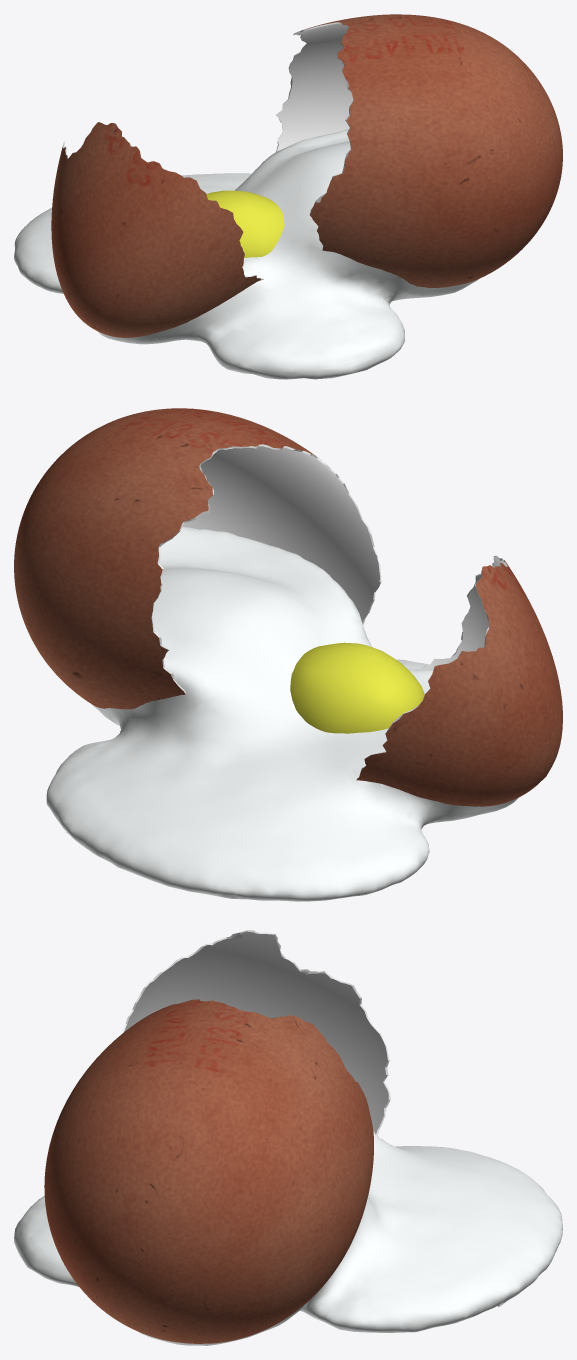
File: egg.glb
3 renders of one model, top to bottom at view 1: azimuth 30°, elevation 25°; view 2: azimuth 150°, elevation 25°; view 3: azimuth 270°, elevation 25°, orthographic. The views are drawn at different scales.
Visible parts, largest first — view 1: Bake_target, blanc, Bake_target.001, jaune; view 2: blanc, Bake_target, Bake_target.001, jaune; view 3: Bake_target, blanc, Bake_target.001.
Part boxes in pixels (<box>): Bake_target: <box>276,14,562,287</box>; blanc: <box>14,129,478,379</box>; Bake_target.001: <box>51,122,263,337</box>; jaune: <box>206,190,284,257</box>; blanc: <box>46,527,518,901</box>; Bake_target: <box>14,408,381,709</box>; Bake_target.001: <box>356,555,562,806</box>; jaune: <box>290,642,424,733</box>; Bake_target: <box>44,999,373,1343</box>; blanc: <box>14,1131,562,1345</box>; Bake_target.001: <box>122,930,390,1135</box>.
Bounding box in the file's own units: 3.77 × 2 × 3.4.
6 materials, 1 textured.
